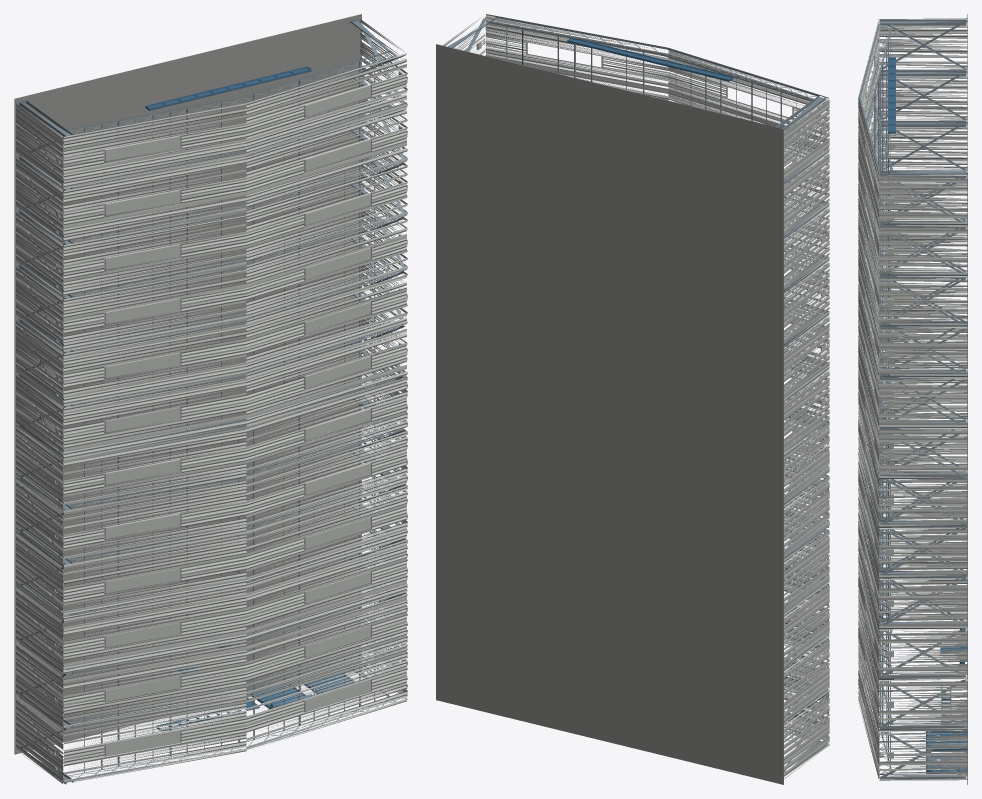
File: warehouse-architecture.glb
3 renders of one model, left to right at view 1: azimuth 30°, elevation 25°; view 2: azimuth 150°, elevation 25°; view 3: azimuth 270°, elevation 25°, orthographic. The views are drawn at different scales.
Visible parts, largest first — view 1: 03. dinding, 06. lantai, 01. rangka, 05. gerbang; view 2: 06. lantai, 03. dinding, 01. rangka, 05. gerbang; view 3: 03. dinding, 01. rangka, 05. gerbang, 06. lantai.
Boxes of the visible parts, x1,y1,x2,y2 form: 03. dinding: [16, 19, 407, 783]; 06. lantai: [14, 14, 361, 754]; 01. rangka: [17, 18, 405, 784]; 05. gerbang: [145, 66, 354, 730]; 06. lantai: [436, 44, 783, 784]; 03. dinding: [442, 14, 829, 778]; 01. rangka: [448, 16, 827, 773]; 05. gerbang: [567, 37, 733, 81]; 03. dinding: [858, 18, 967, 780]; 01. rangka: [859, 19, 966, 779]; 05. gerbang: [888, 57, 967, 773]; 06. lantai: [967, 14, 967, 784].
Size of the model in its own units: 17.32 by 31.24 by 5.07.
